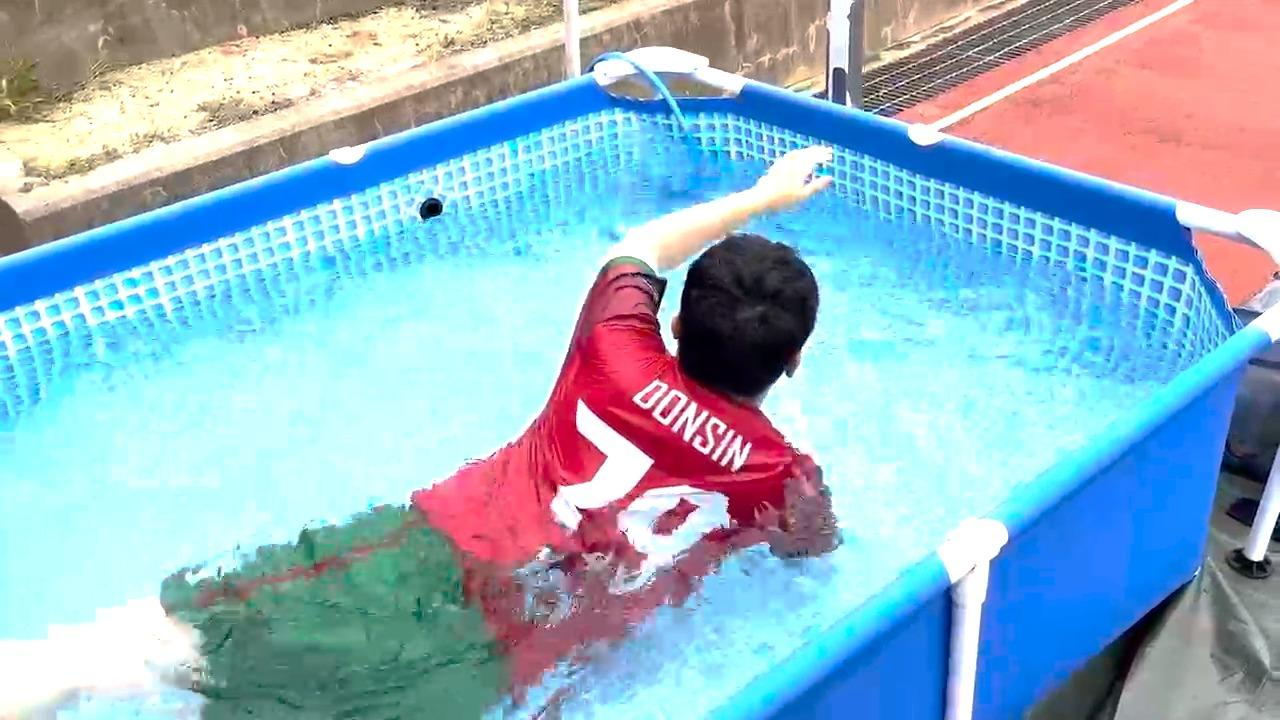Swimming: (124, 117, 949, 720)
